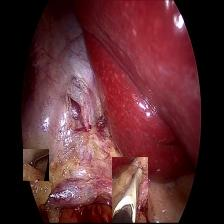Grasper: (24, 149, 50, 181)
Hook: (112, 157, 148, 224)
